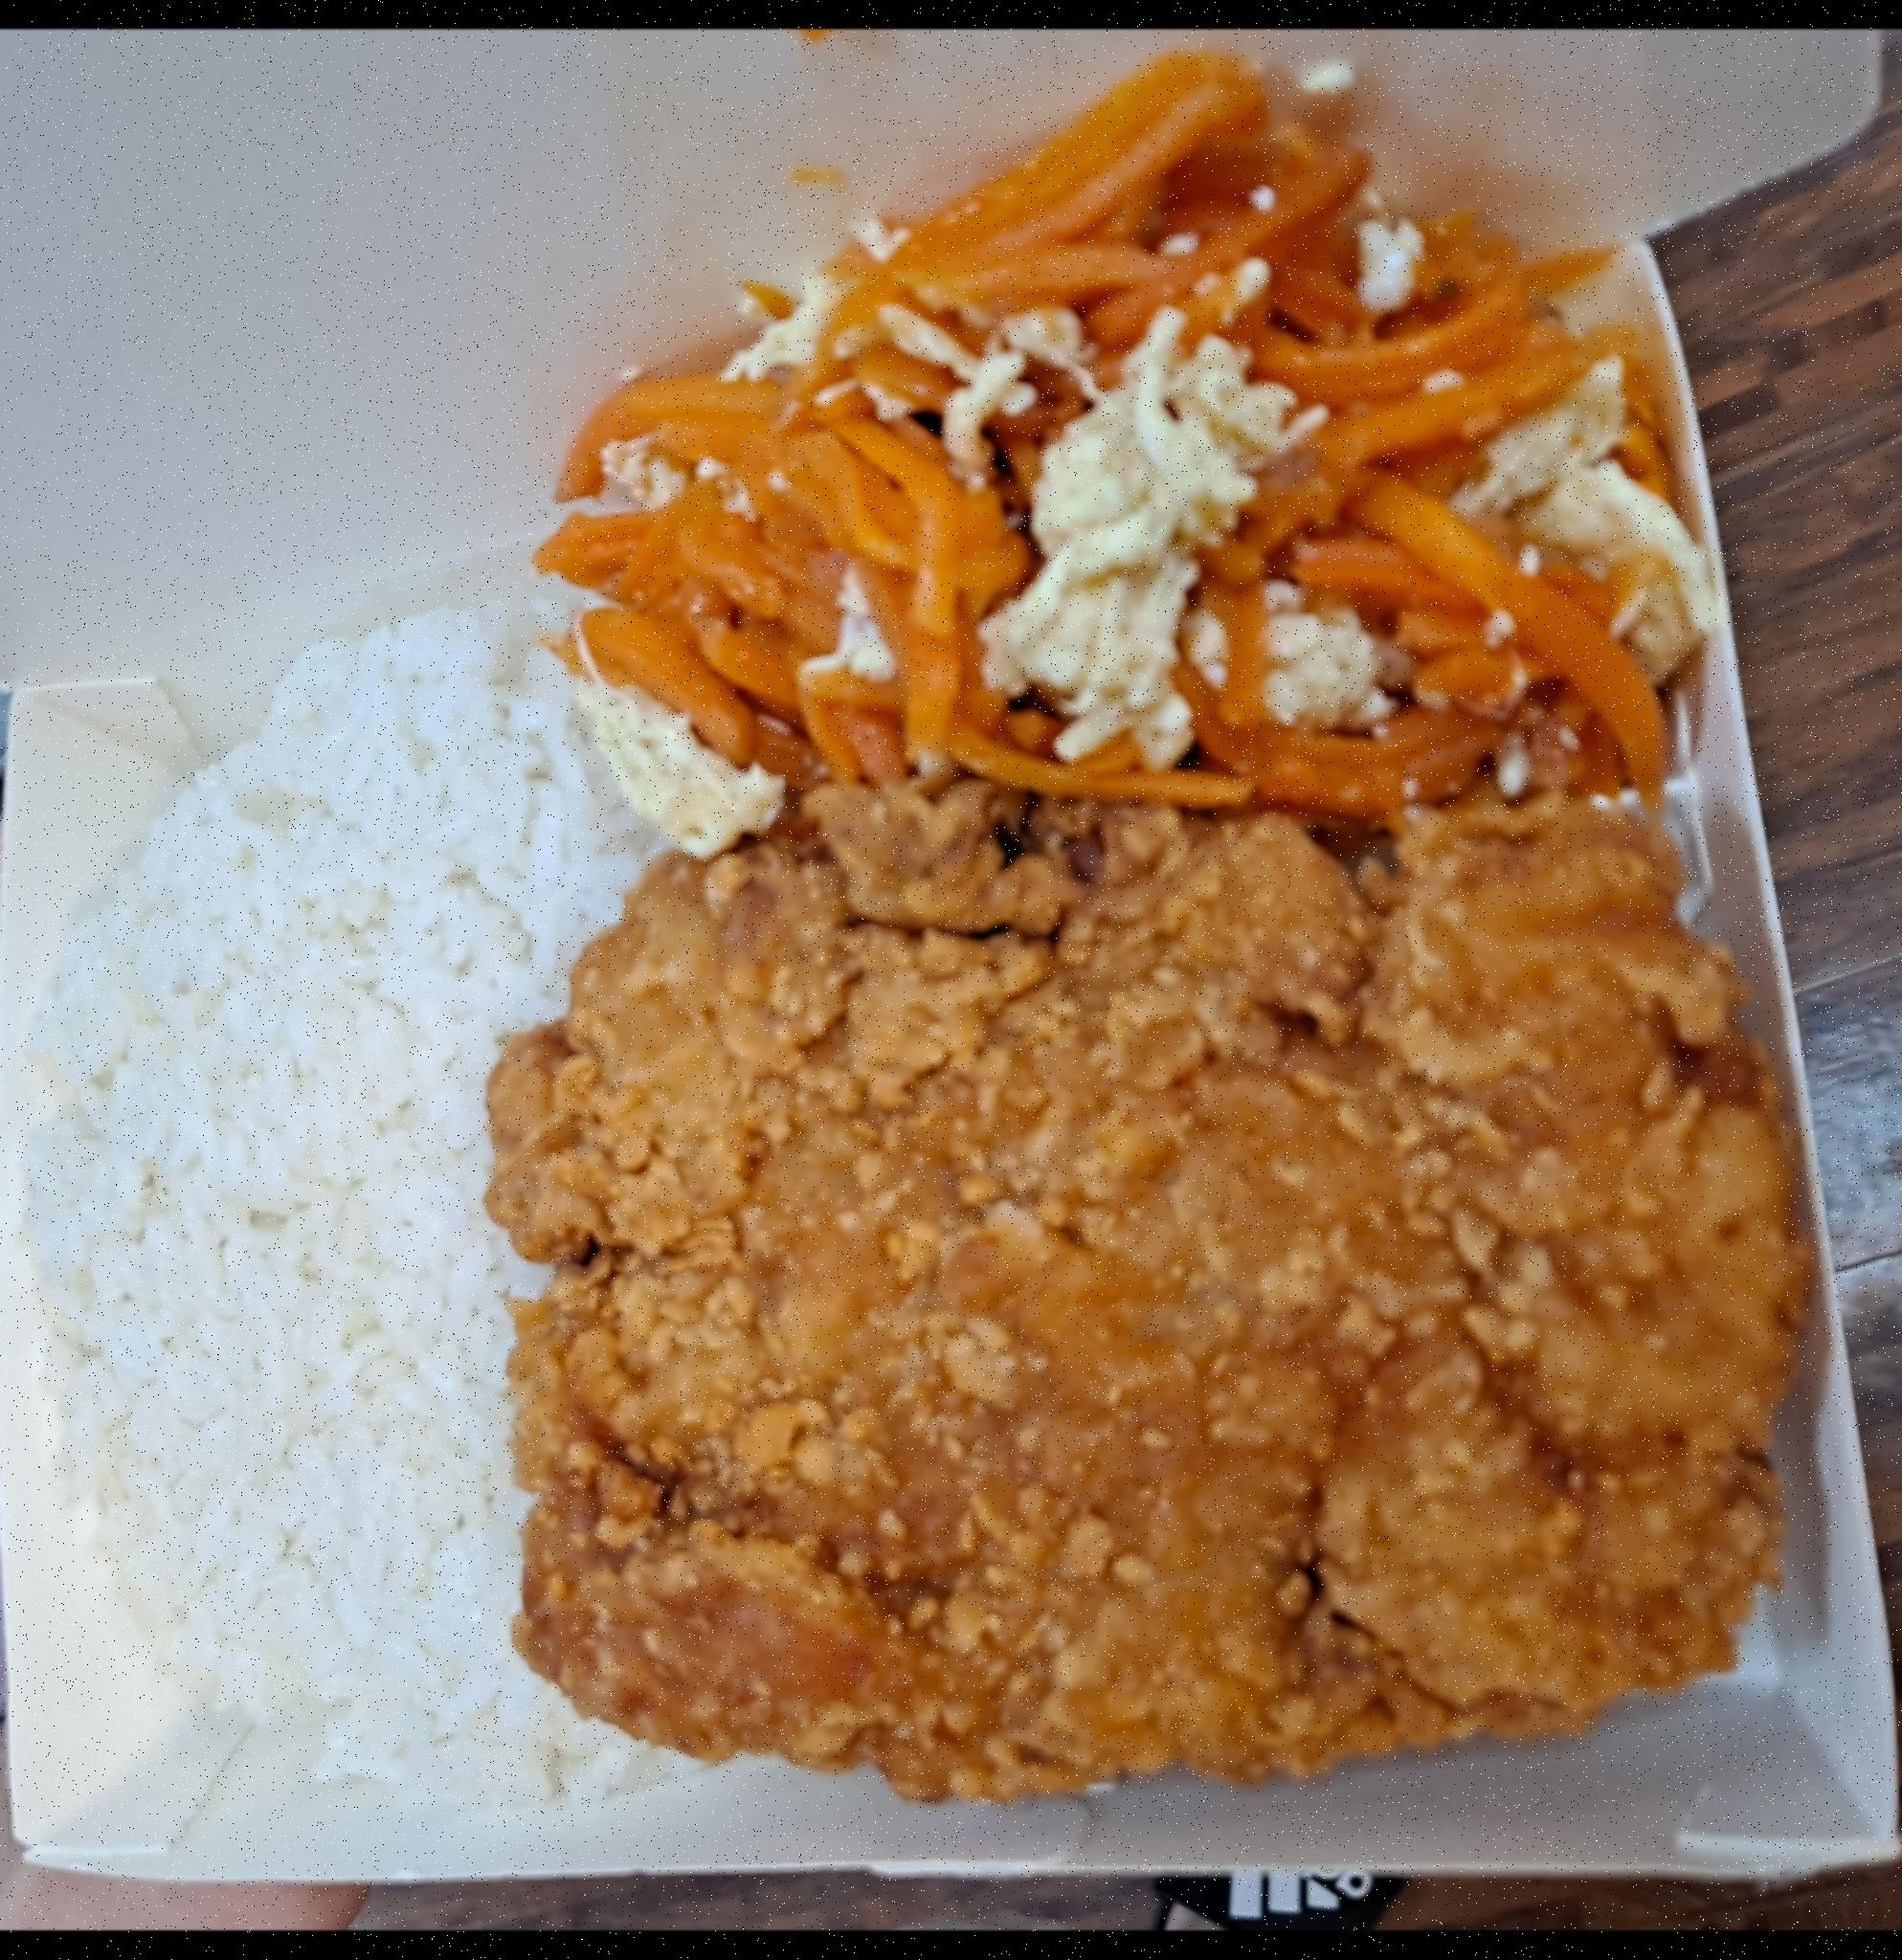big grilled chicken leg: (0, 210, 1902, 1914)
big herbal chicken leg: (7, 612, 688, 1820)
braised fish fillet: (560, 54, 1724, 838)
braised pork: (486, 763, 1825, 1809)
